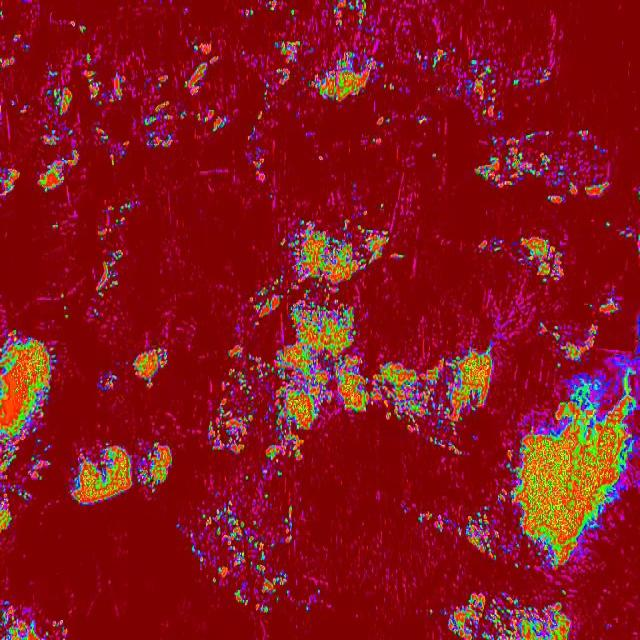fire: (215, 217, 494, 462), (498, 352, 640, 574), (175, 504, 294, 614), (0, 328, 58, 532), (473, 127, 614, 196), (433, 44, 553, 118), (443, 589, 571, 640), (73, 440, 174, 502), (310, 47, 384, 111), (142, 100, 231, 150), (0, 597, 69, 640), (516, 232, 567, 286), (80, 48, 128, 104), (536, 320, 600, 352), (183, 41, 220, 94), (464, 502, 498, 559), (130, 345, 173, 387), (96, 122, 134, 168), (95, 247, 126, 302), (98, 200, 138, 242), (240, 124, 266, 184), (39, 152, 80, 190), (328, 0, 368, 29), (271, 39, 302, 69), (418, 508, 447, 537), (343, 184, 371, 214), (255, 78, 274, 121), (46, 84, 72, 115), (38, 122, 75, 142), (618, 223, 640, 254), (0, 167, 21, 199), (96, 370, 118, 394), (600, 295, 622, 319), (275, 69, 296, 90), (413, 48, 432, 70), (12, 29, 30, 51), (58, 294, 72, 322), (258, 463, 274, 486), (152, 70, 170, 90), (376, 113, 394, 127), (72, 22, 91, 34), (0, 54, 16, 68), (44, 69, 62, 80), (383, 81, 398, 93), (19, 101, 30, 117), (494, 238, 504, 254), (417, 112, 428, 126), (266, 0, 278, 11), (52, 219, 62, 232), (243, 8, 256, 18), (633, 185, 640, 203), (91, 307, 102, 318), (603, 220, 613, 230), (288, 9, 298, 19), (603, 622, 613, 632), (585, 300, 594, 311), (304, 604, 312, 615), (428, 606, 435, 618), (458, 528, 465, 540), (432, 152, 439, 163), (262, 493, 271, 501), (277, 468, 284, 478), (378, 202, 386, 210), (240, 48, 247, 57), (372, 138, 379, 146), (10, 100, 17, 108), (0, 10, 4, 22), (316, 587, 322, 595), (245, 474, 251, 481), (270, 192, 274, 200)
